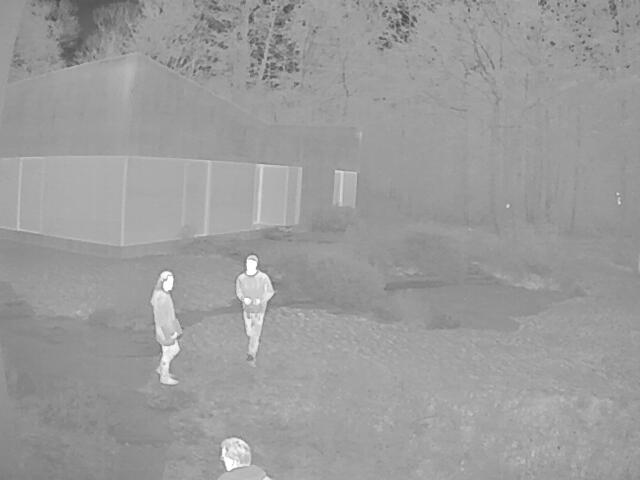person: (233, 252, 274, 368), (149, 268, 179, 384), (213, 437, 267, 479)
